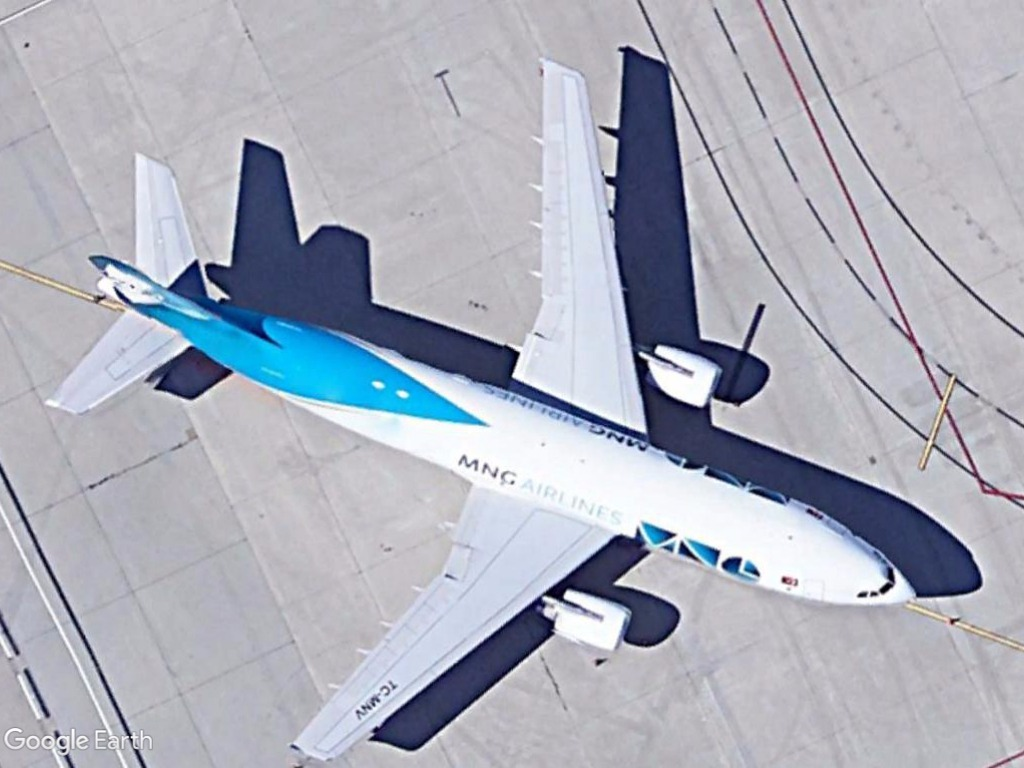airliner: (41, 55, 921, 760)
